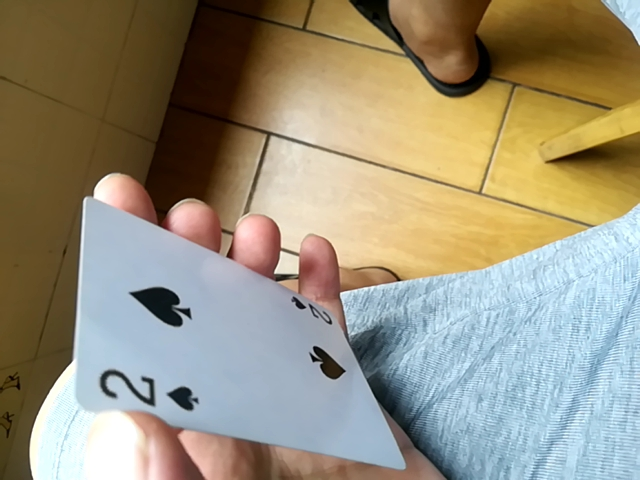ht 2: (79, 179, 395, 471)
